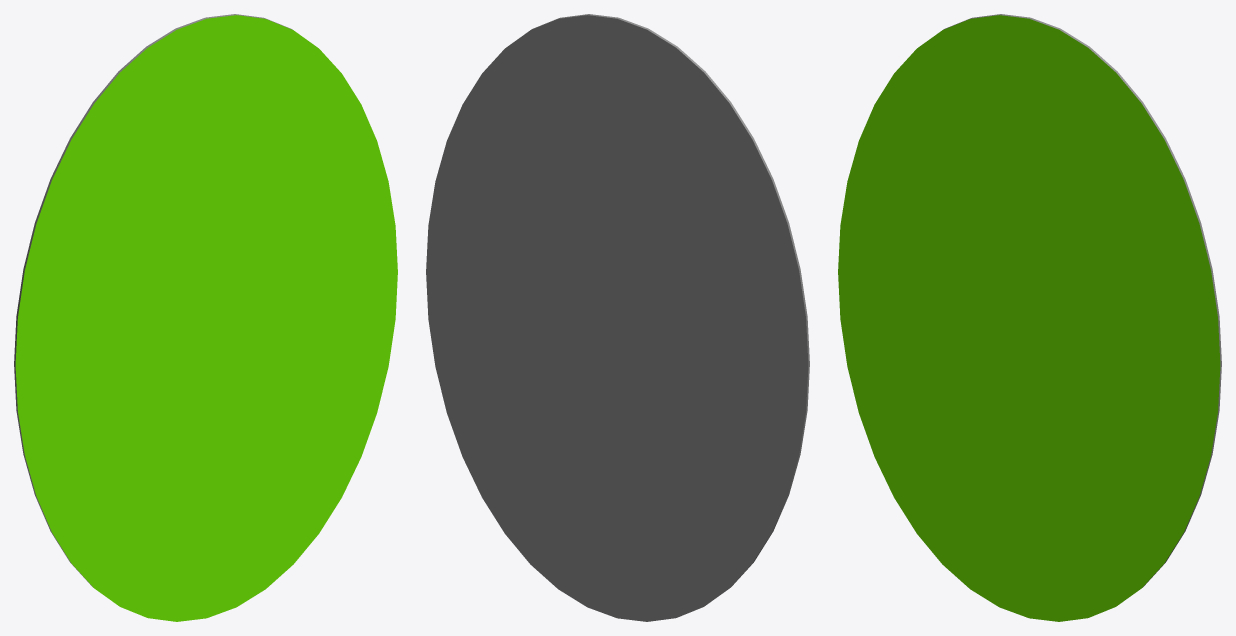
The model's file is Mirror.FBX.
The picture shows the model from 3 angles, left to right: view 1: azimuth 30°, elevation 25°; view 2: azimuth 150°, elevation 25°; view 3: azimuth 330°, elevation 25°; orthographic projection.
Parts seen in each view (by area): view 1: Cylinder025, Mirror 2, Mirror; view 2: Cylinder025; view 3: Cylinder025, Mirror 2, Mirror.
Part boxes in pixels (<box>): Cylinder025: <box>14,14,397,621</box>; Mirror 2: <box>89,189,194,313</box>; Mirror: <box>160,264,273,366</box>; Cylinder025: <box>426,14,809,621</box>; Cylinder025: <box>838,14,1221,621</box>; Mirror 2: <box>912,167,1016,275</box>; Mirror: <box>983,258,1095,369</box>.
Bounding box in the file's own units: 22.06 × 33.05 × 0.1533.
